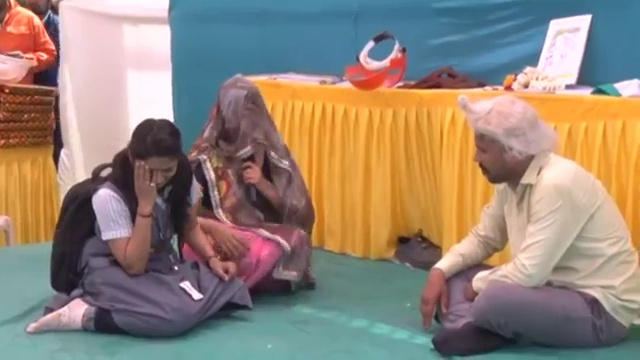helmet: (0, 54, 37, 85)
helmet_off: (463, 96, 547, 187), (122, 116, 185, 193), (216, 81, 265, 139)
person: (409, 90, 640, 339), (35, 122, 224, 341), (184, 65, 308, 302), (2, 0, 55, 85), (35, 3, 59, 45)
